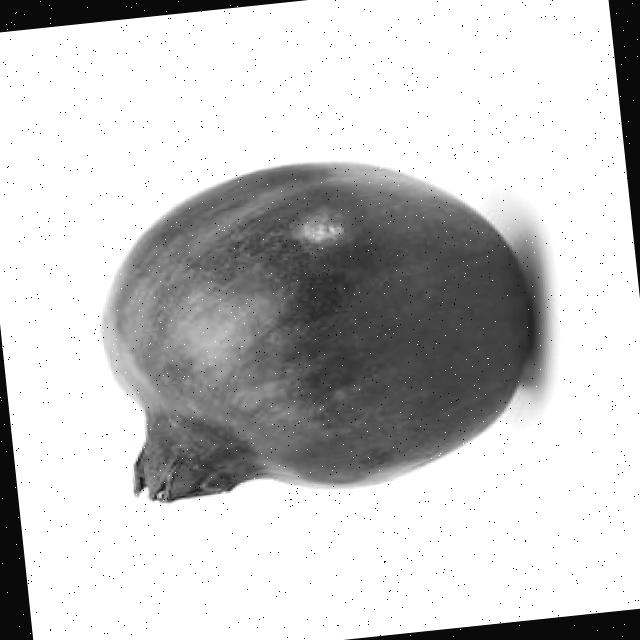Pomegranate: (80, 140, 553, 515)
